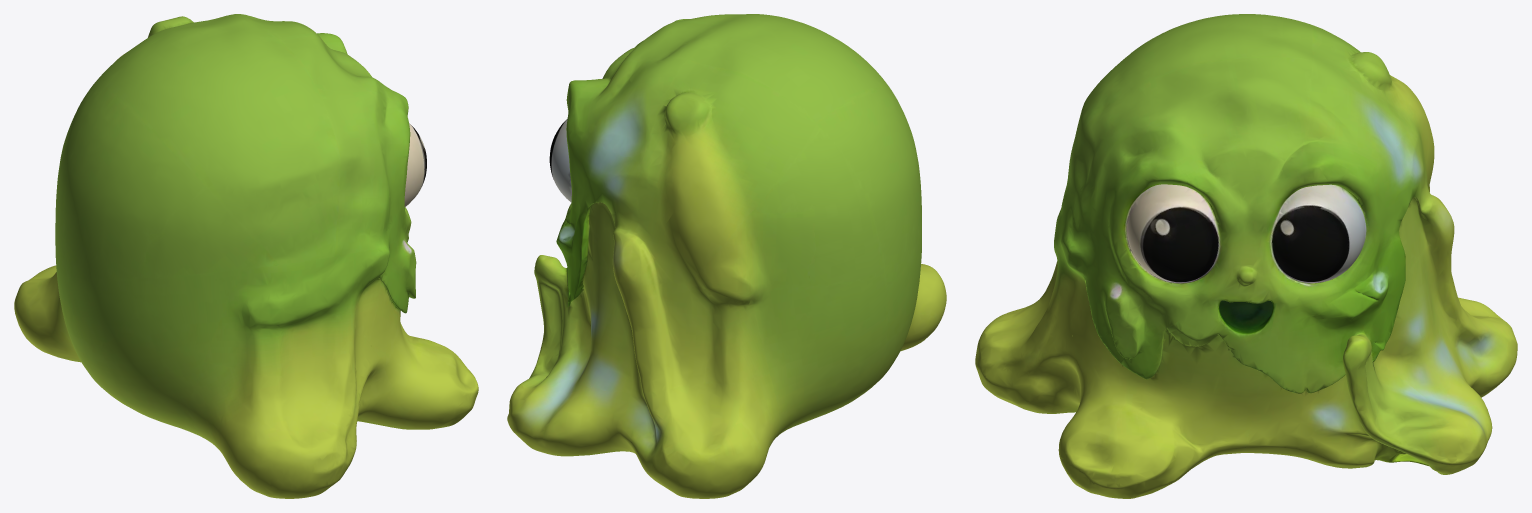
File: rig.glb
The picture shows the model from 3 angles, left to right: view 1: azimuth 30°, elevation 25°; view 2: azimuth 150°, elevation 25°; view 3: azimuth 270°, elevation 25°; orthographic projection. The views are drawn at different scales.
Parts seen in each view (by area): view 1: tripo_node_53b90ac9-8bac-4b1b-9cbd-5233d9feb0f1; view 2: tripo_node_53b90ac9-8bac-4b1b-9cbd-5233d9feb0f1; view 3: tripo_node_53b90ac9-8bac-4b1b-9cbd-5233d9feb0f1.
Part boxes in pixels (x1=…): tripo_node_53b90ac9-8bac-4b1b-9cbd-5233d9feb0f1: x1=14, y1=14, x2=478, y2=498; tripo_node_53b90ac9-8bac-4b1b-9cbd-5233d9feb0f1: x1=507, y1=14, x2=946, y2=498; tripo_node_53b90ac9-8bac-4b1b-9cbd-5233d9feb0f1: x1=975, y1=14, x2=1517, y2=498.
Size of the model in its own units: 0.7452 by 0.7858 by 0.9999.
Materials: 1 (1 with a texture image).
